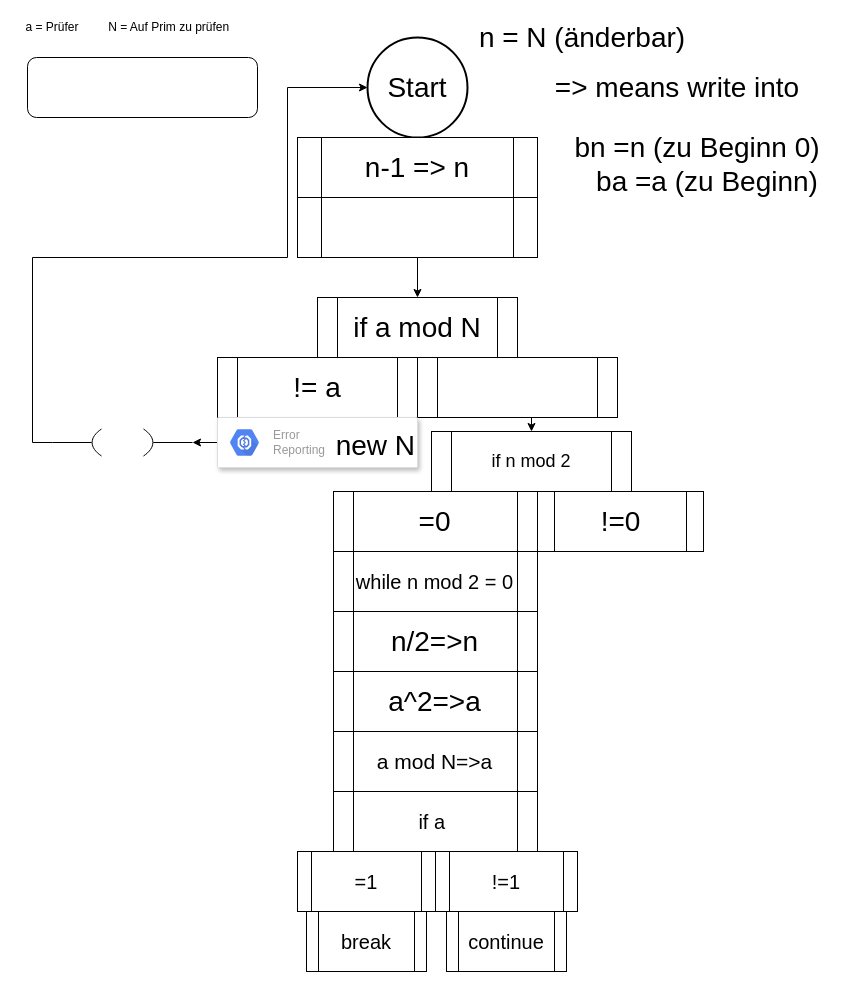
The diagram is 854 pixels wide and 989 high, and some of its shapes have lost their labels. The centre of each missing label's shape, as x and y in pixels:
"= a" belongs at (x=517, y=387).
"a (n-1)/2 mod N" belongs at (x=142, y=87).
"a >= N !" belongs at (x=122, y=442).
"n/2 => n,bn" belongs at (x=417, y=227).
